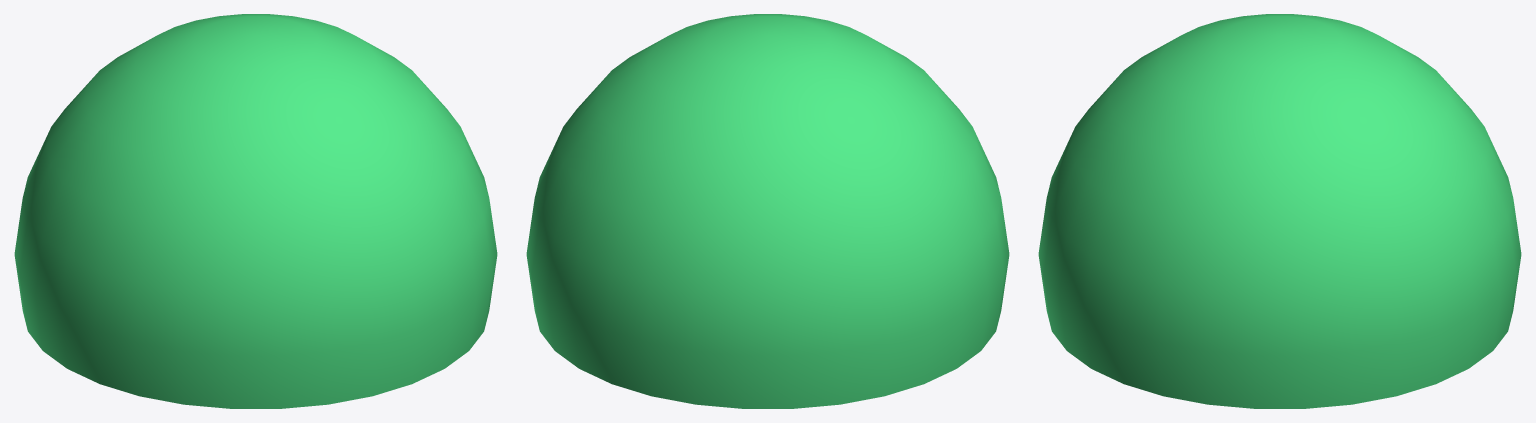
The model's file is Bush.fbx.
3 renders of one model, left to right at view 1: azimuth 30°, elevation 25°; view 2: azimuth 150°, elevation 25°; view 3: azimuth 270°, elevation 25°, orthographic.
Parts seen in each view (by area): view 1: Bush; view 2: Bush; view 3: Bush.
Part boxes in pixels (left/top/right/bottom): Bush: left=14, top=14, right=497, bottom=408; Bush: left=526, top=14, right=1009, bottom=408; Bush: left=1038, top=14, right=1521, bottom=408.
Size of the model in its own units: 149 by 94.19 by 150.
